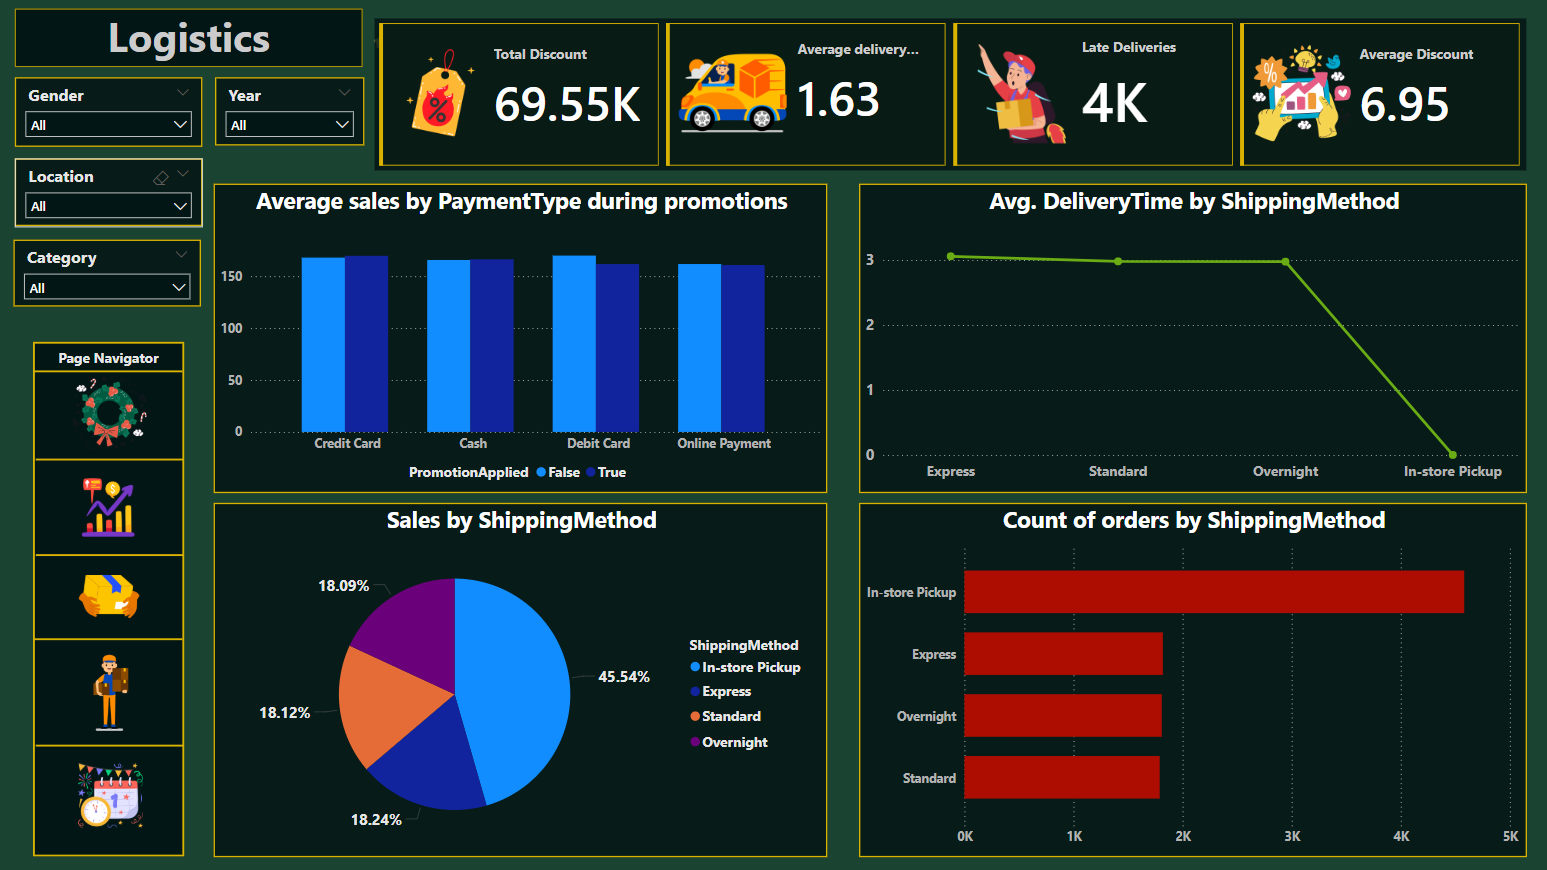

The dashboard page shown, as its layout file describes it:
{"tool":"powerbi","page":{"name":"Logistics","canvas":[1664,936],"ordinal":2},"visuals":[{"type":"image","box":[396,35.5,25.9,25.9],"z":0},{"type":"shape","box":[17.7,13.1,370.8,62.3],"z":1000,"group":"g1"},{"type":"clusteredColumnChart","title":"Average sales by PaymentType during promotions","fields":{"Category":["Christmas sales data.PaymentType"],"Y":["Avg(Christmas sales data.TotalPrice)"],"Series":["Christmas sales data.PromotionApplied"]},"box":[230,200,654,330],"z":1000},{"type":"barChart","title":"Count of orders by ShippingMethod","fields":{"Category":["Christmas sales data.ShippingMethod"],"Y":["CountNonNull(Christmas sales data.TransactionID)"]},"box":[918,540,712,378],"z":2000},{"type":"lineChart","title":"Avg. DeliveryTime by ShippingMethod","fields":{"Category":["Christmas sales data.ShippingMethod"],"Y":["Avg(Christmas sales data.DeliveryTime)"]},"box":[918,200,712,330],"z":3000},{"type":"pieChart","title":"Sales by ShippingMethod","fields":{"Category":["Christmas sales data.ShippingMethod"],"Y":["Sum(Christmas sales data.TotalPrice)"]},"box":[230,540,654,378],"z":4000},{"type":"cardVisual","fields":{"Data":["MeasuresTable.Total Discount","MeasuresTable.Average delivery time","MeasuresTable.Late Deliveries","MeasuresTable.Average Discount"]},"box":[402,24,1228,162],"z":5000},{"type":"textbox","box":[17.7,8.5,370.8,67.7],"z":6000,"group":"g1"},{"type":"slicer","fields":{"Values":["Christmas sales data.Gender"]},"box":[18,86,200,74],"z":6000},{"type":"slicer","fields":{"Values":["Christmas sales data.Location"]},"box":[18.3,173.3,200,72.5],"z":7000},{"type":"slicer","fields":{"Values":["Christmas sales data.Category"]},"box":[15.8,259.2,200,71.7],"z":8000},{"type":"slicer","fields":{"Values":["Christmas sales data.Date.Variation.Date Hierarchy.Year"]},"box":[230.9,86.4,159.1,72.7],"z":9000},{"type":"group","id":"g1","title":"Group 3","box":[17.7,8.5,370.8,67.7],"z":11000},{"type":"group","id":"g2","title":"Group 2","box":[36.7,442,167,470],"z":11001},{"type":"shape","box":[36.7,442,167,470],"z":12000,"group":"g3"},{"type":"group","id":"g3","title":"Group 1","box":[36.7,442,167,470],"z":13000,"group":"g2"},{"type":"image","box":[73.2,582.2,94.1,86.4],"z":13000,"group":"g3"},{"type":"textbox","box":[38.7,443.3,163.3,31],"z":14000,"group":"g2"},{"type":"image","box":[77.3,486.2,86.1,81],"z":14000,"group":"g3"},{"type":"image","box":[74.7,801.8,94.1,86.1],"z":15000,"group":"g3"},{"type":"image","box":[74.7,683.8,94.7,94.7],"z":16000,"group":"g3"},{"type":"shape","box":[39.6,468.1,163.2,12.7],"z":17000,"group":"g3"},{"type":"shape","box":[39.6,572.1,162.9,13.4],"z":19000,"group":"g3"},{"type":"shape","box":[38.5,665.2,163.5,13.7],"z":20000,"group":"g3"},{"type":"shape","box":[39.6,782.4,163.5,13.7],"z":21000,"group":"g3"}]}

Visuals, with their boxes in screenshot pixels (x1, y1, x2, y2), scaled from the page's 1664x936 canvas onto the 1547x870 screenshot:
image: locate(368, 33, 392, 57)
shape: locate(16, 12, 361, 70)
"Average sales by PaymentType during promotions" clusteredColumnChart: locate(214, 186, 822, 493)
"Count of orders by ShippingMethod" barChart: locate(853, 502, 1515, 853)
"Avg. DeliveryTime by ShippingMethod" lineChart: locate(853, 186, 1515, 493)
"Sales by ShippingMethod" pieChart: locate(214, 502, 822, 853)
cardVisual - MeasuresTable.Total Discount x MeasuresTable.Average delivery time: locate(374, 22, 1515, 173)
textbox: locate(16, 8, 361, 71)
slicer - Christmas sales data.Gender: locate(17, 80, 203, 149)
slicer - Christmas sales data.Location: locate(17, 161, 203, 228)
slicer - Christmas sales data.Category: locate(15, 241, 201, 308)
slicer - Christmas sales data.Date.Variation.Date Hierarchy.Year: locate(215, 80, 363, 148)
"Group 3" group: locate(16, 8, 361, 71)
"Group 2" group: locate(34, 411, 189, 848)
shape: locate(34, 411, 189, 848)
"Group 1" group: locate(34, 411, 189, 848)
image: locate(68, 541, 156, 621)
textbox: locate(36, 412, 188, 441)
image: locate(72, 452, 152, 527)
image: locate(69, 745, 157, 825)
image: locate(69, 636, 157, 724)
shape: locate(37, 435, 189, 447)
shape: locate(37, 532, 188, 544)
shape: locate(36, 618, 188, 631)
shape: locate(37, 727, 189, 740)
